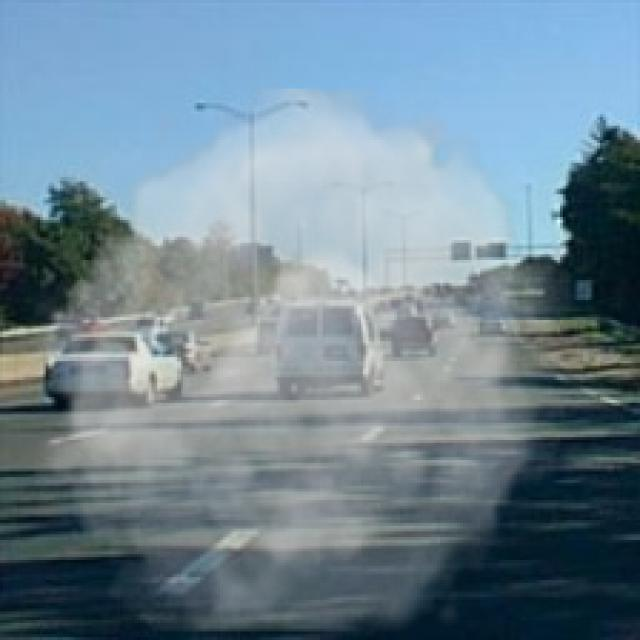smoke: (14, 89, 577, 632)
